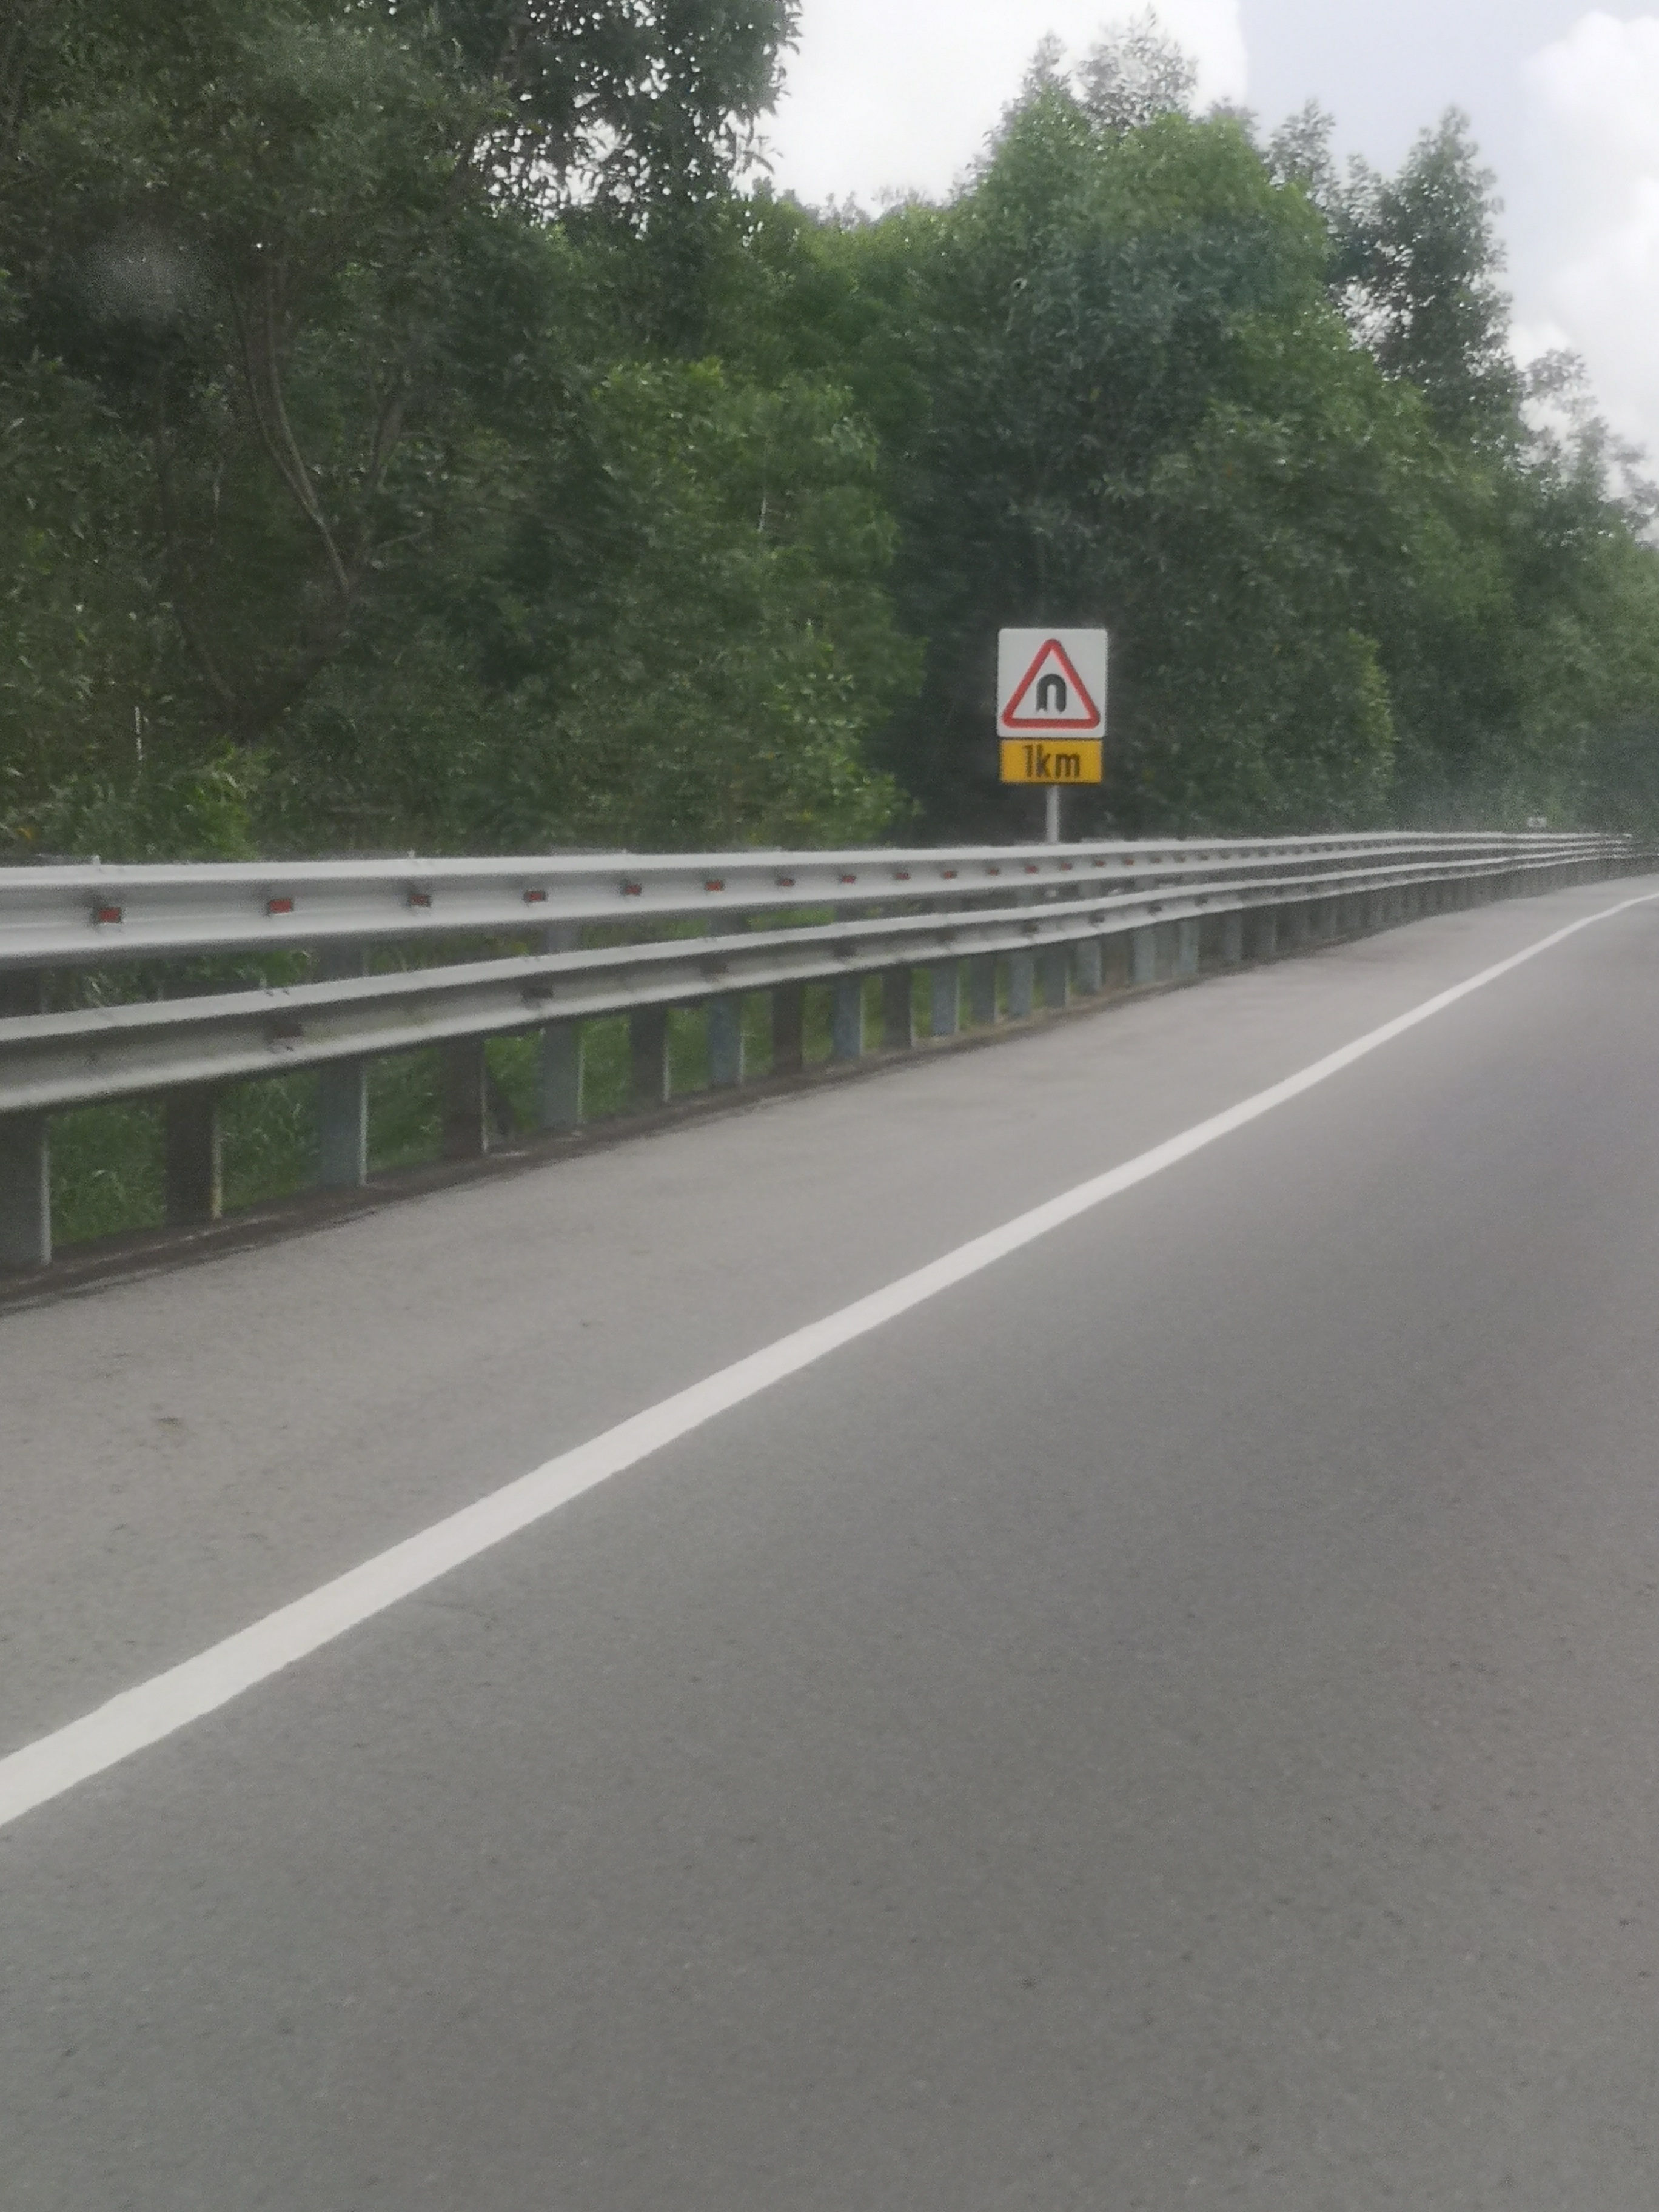U-turn: (988, 624, 1117, 740)
